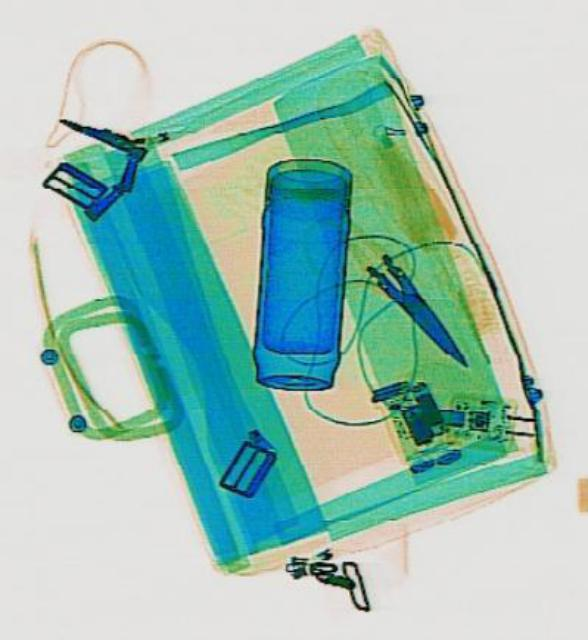Knife: (358, 244, 475, 376)
